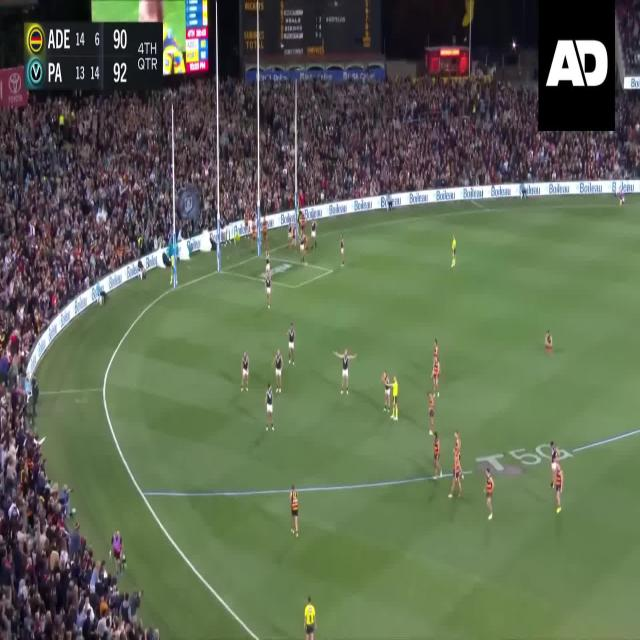crowd: (0, 6, 639, 629)
